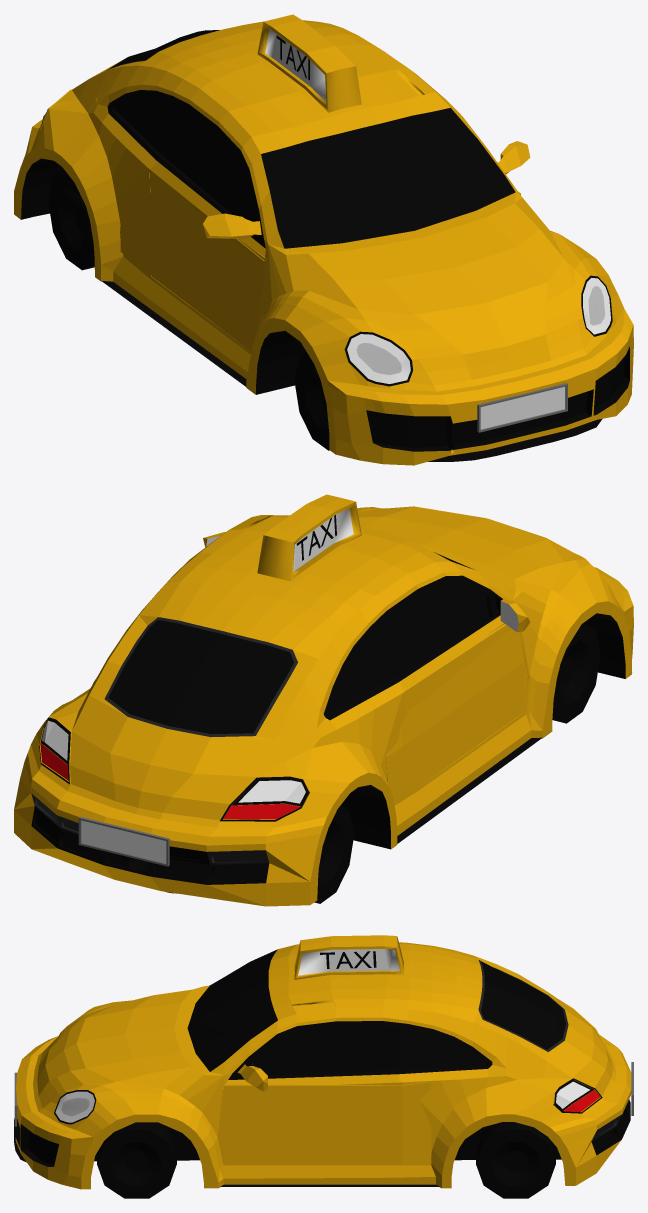
Rendered from beetler_deneme2.fbx.
3 renders of one model, top to bottom at view 1: azimuth 30°, elevation 25°; view 2: azimuth 150°, elevation 25°; view 3: azimuth 270°, elevation 25°, orthographic. The views are drawn at different scales.
Parts seen in each view (by area): view 1: Body, Cube.002, Object016, Cube, Plane, Object015; view 2: Body, Cube.002, Object015, Cube.001, Object016, Plane; view 3: Body, Cube.003, Object017, Object005, Plane, Text.
Boxes of the visible parts, x1,y1,x2,y2 form: Body: (14,14,633,465); Cube.002: (120,191,266,351); Object016: (48,170,94,270); Cube: (477,383,567,432); Plane: (36,213,602,461); Object015: (294,352,329,450); Body: (14,494,633,906); Cube.002: (386,623,526,802); Object015: (552,623,600,723); Cube.001: (78,816,169,866); Object016: (314,805,354,903); Plane: (166,737,542,893); Body: (15,935,631,1189); Cube.003: (223,1082,431,1165); Object017: (476,1122,555,1198); Object005: (97,1122,176,1198); Plane: (14,1118,561,1186); Text: (320,951,376,968).
Size of the model in its own units: 116 by 93.19 by 249.
